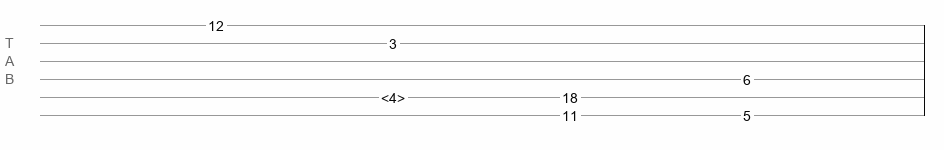11: (562, 108, 578, 118)
12: (208, 18, 224, 28)
18: (562, 90, 578, 100)
3: (389, 36, 397, 46)
5: (743, 108, 751, 118)
6: (743, 72, 751, 82)
harmonic: (381, 90, 405, 100)
